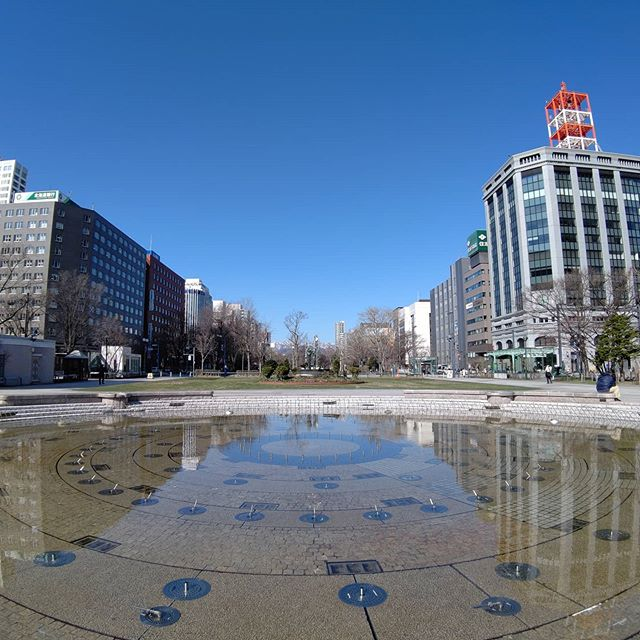building: (486, 150, 640, 370), (1, 202, 148, 351), (428, 247, 495, 370), (141, 264, 183, 345), (390, 300, 429, 360), (176, 272, 215, 332)
sky: (1, 1, 640, 152), (57, 158, 491, 301)
vegetation: (185, 301, 403, 367)
